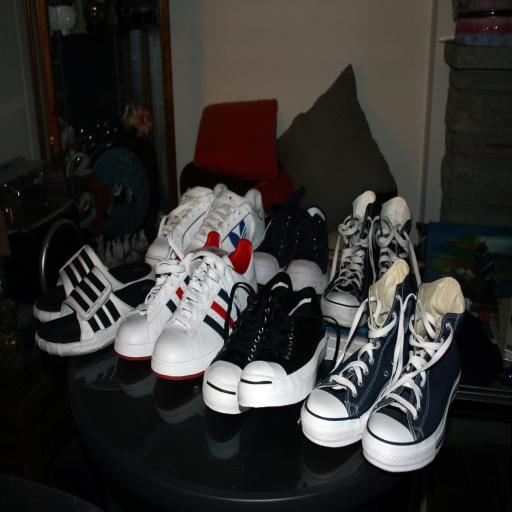shoe: (301, 259, 412, 447), (362, 278, 465, 472), (152, 238, 256, 380), (114, 232, 219, 360), (203, 272, 293, 414), (238, 287, 327, 407), (321, 191, 377, 328), (145, 184, 226, 266), (184, 189, 265, 253), (254, 186, 306, 285), (374, 197, 421, 290), (286, 206, 329, 294), (204, 407, 261, 460), (153, 374, 205, 425), (74, 348, 119, 391), (116, 358, 157, 398)
